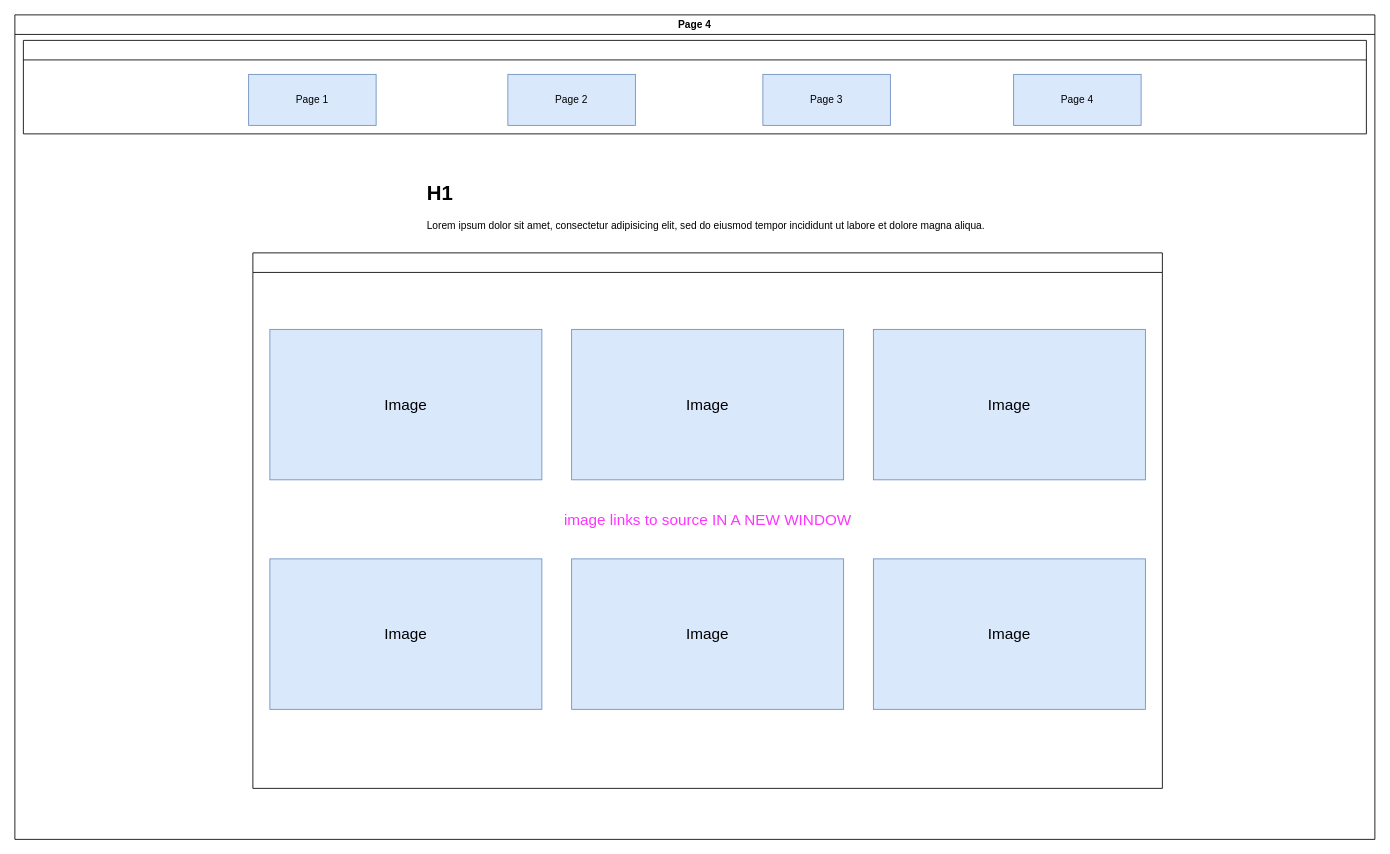
This 1390x854 diagram has some shape labels left out. Here are the shapes that lost their labels. From the top down, the box of each, then its label:
(23, 40, 1366, 134): Navigation Bar
(252, 252, 1162, 788): image grid 3x2
